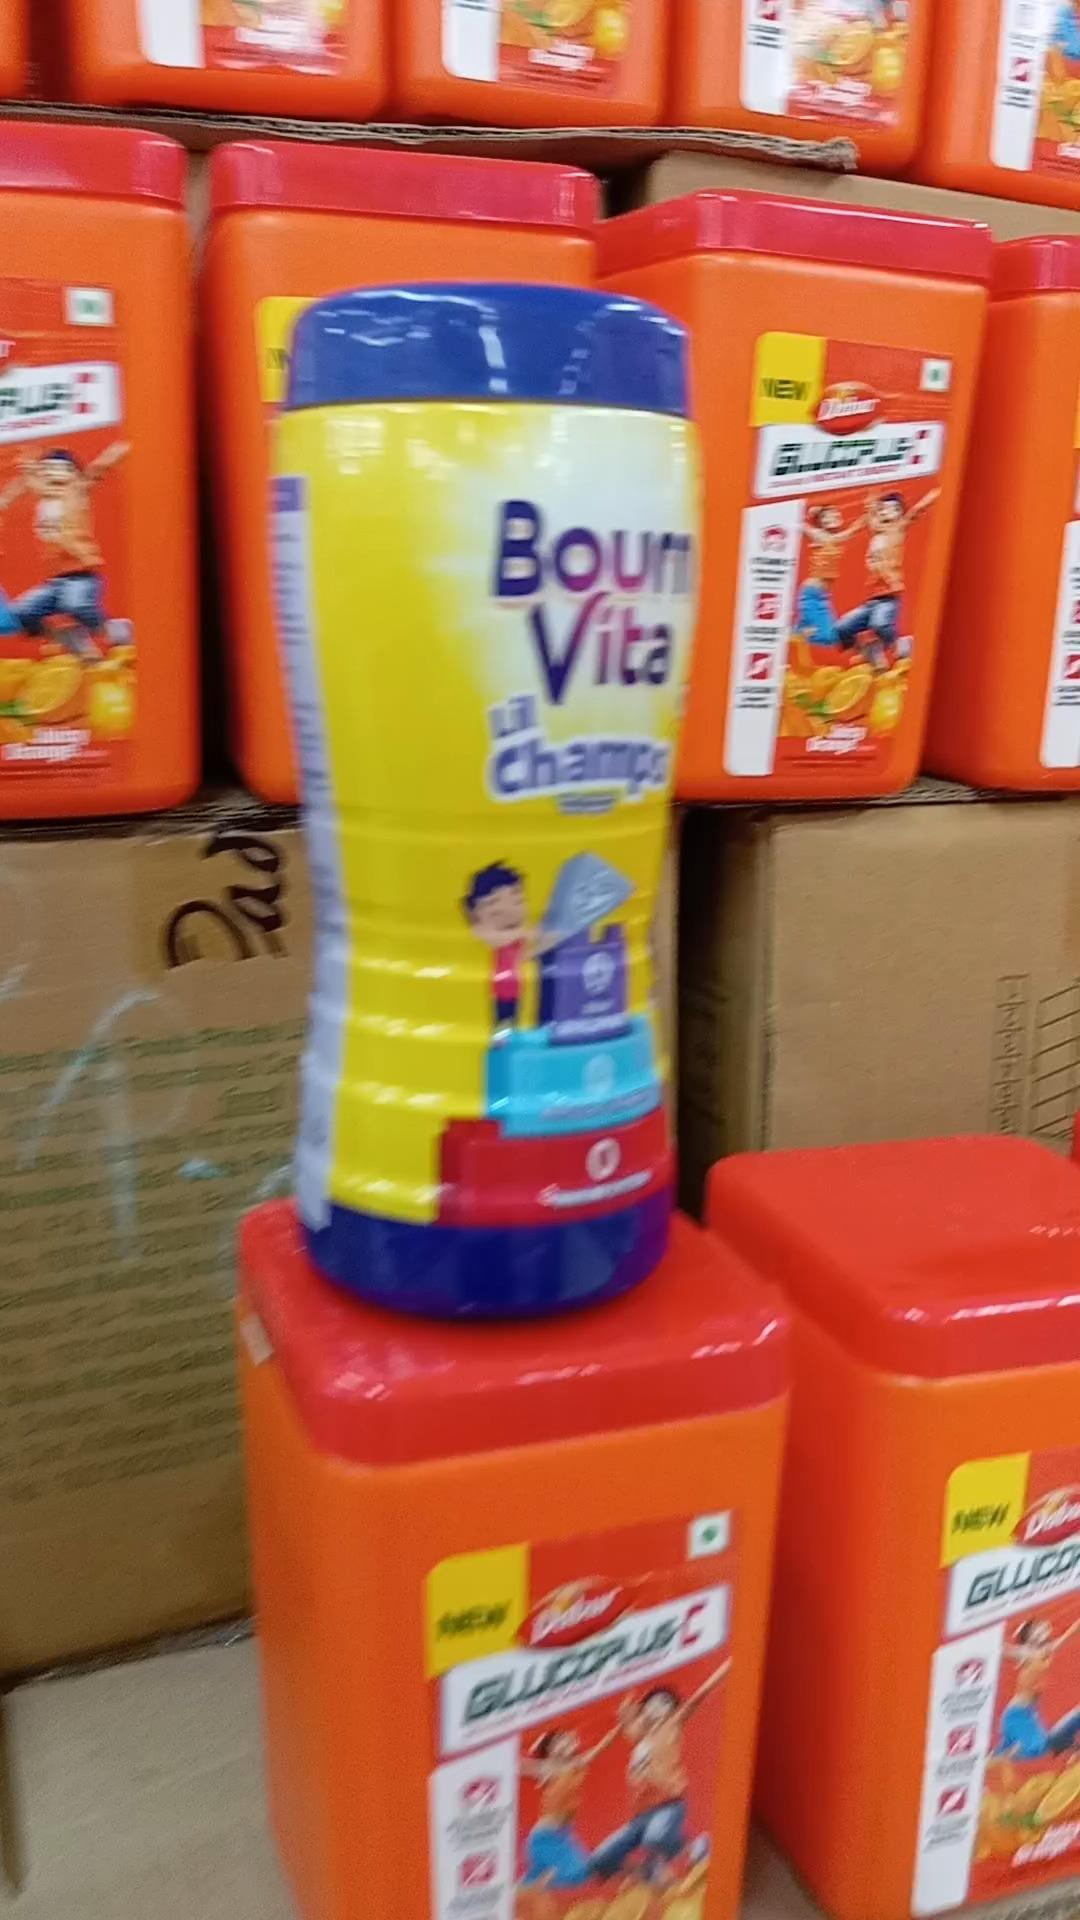BOURN_VITA_CHAMPS_500_G_JAR: (314, 286, 709, 1332)
